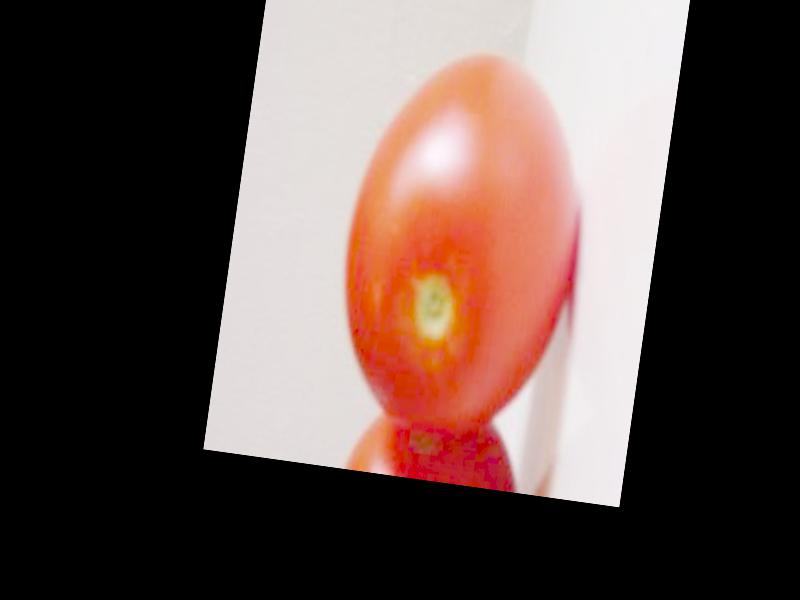Tomato: (323, 38, 599, 447)
